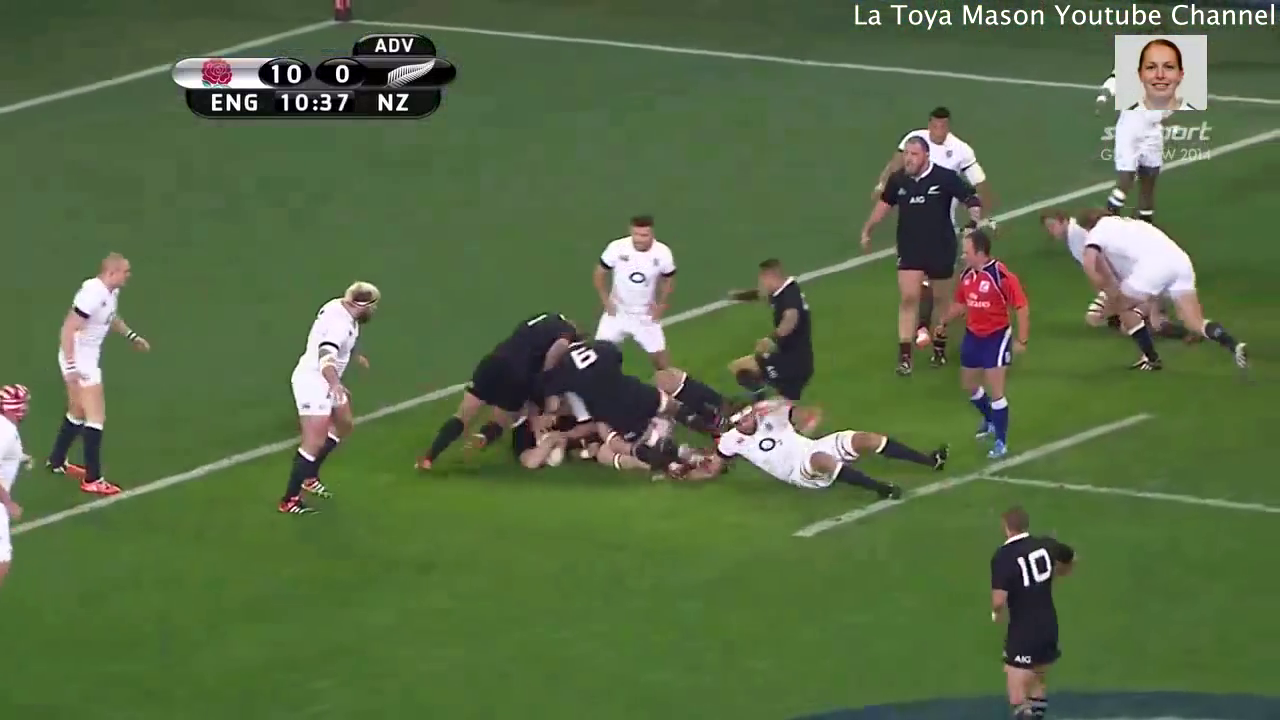player: (1070, 200, 1265, 387), (848, 137, 993, 384), (265, 277, 388, 528), (413, 302, 583, 477), (48, 240, 157, 502), (709, 401, 951, 512), (975, 505, 1081, 720), (929, 228, 1021, 463), (705, 256, 829, 412), (583, 212, 673, 368), (1, 376, 40, 595), (896, 108, 996, 190)
ruck: (422, 274, 753, 500)
w: (557, 332, 706, 472)
